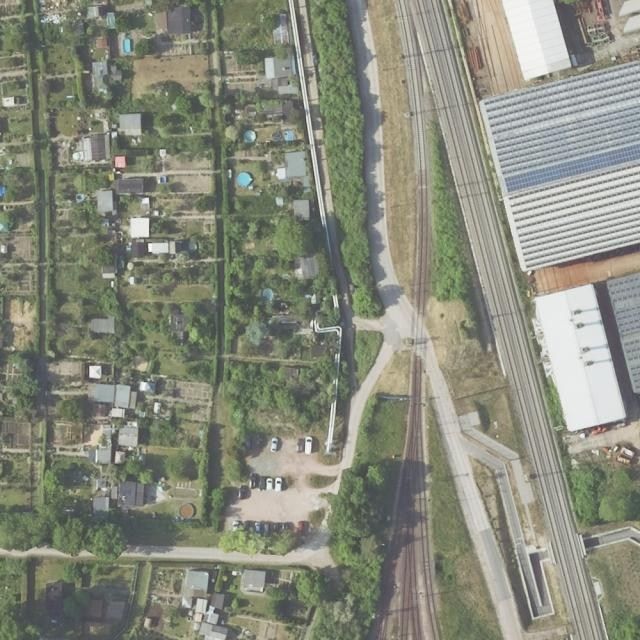PV: (483, 61, 640, 136), (493, 104, 640, 175), (509, 164, 640, 230), (517, 204, 640, 268), (504, 143, 640, 192), (607, 275, 640, 304), (615, 305, 640, 333), (623, 338, 640, 362), (629, 365, 640, 389)
